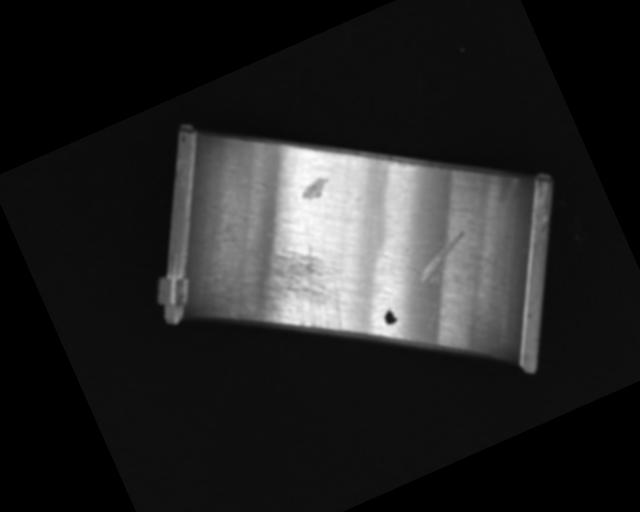blot: (381, 307, 399, 327)
bruise: (297, 175, 334, 205)
nick: (398, 255, 446, 330), (408, 231, 474, 282)
scratch: (221, 226, 368, 366)
